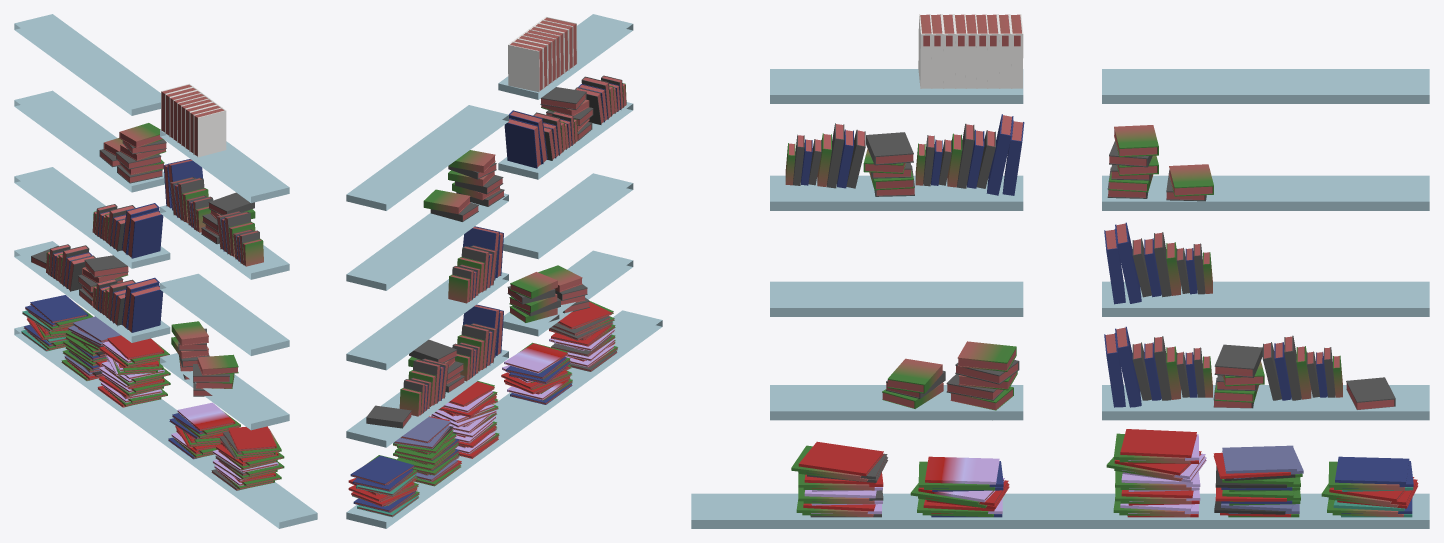
Rendered from Office2_shelves.fbx.
3 views of the same model, side by side, from view 1: azimuth 30°, elevation 25°; view 2: azimuth 150°, elevation 25°; view 3: azimuth 270°, elevation 25° (orthographic). The views are drawn at different scales.
Parts seen in each view (by area): view 1: Office2_shelves; view 2: Office2_shelves; view 3: Office2_shelves.
Boxes of the visible parts, x1=… form: Office2_shelves: x1=14, y1=14, x2=317, y2=528; Office2_shelves: x1=346, y1=14, x2=662, y2=528; Office2_shelves: x1=691, y1=14, x2=1429, y2=528.
Size of the model in its own units: 62.61 by 357 by 489.
